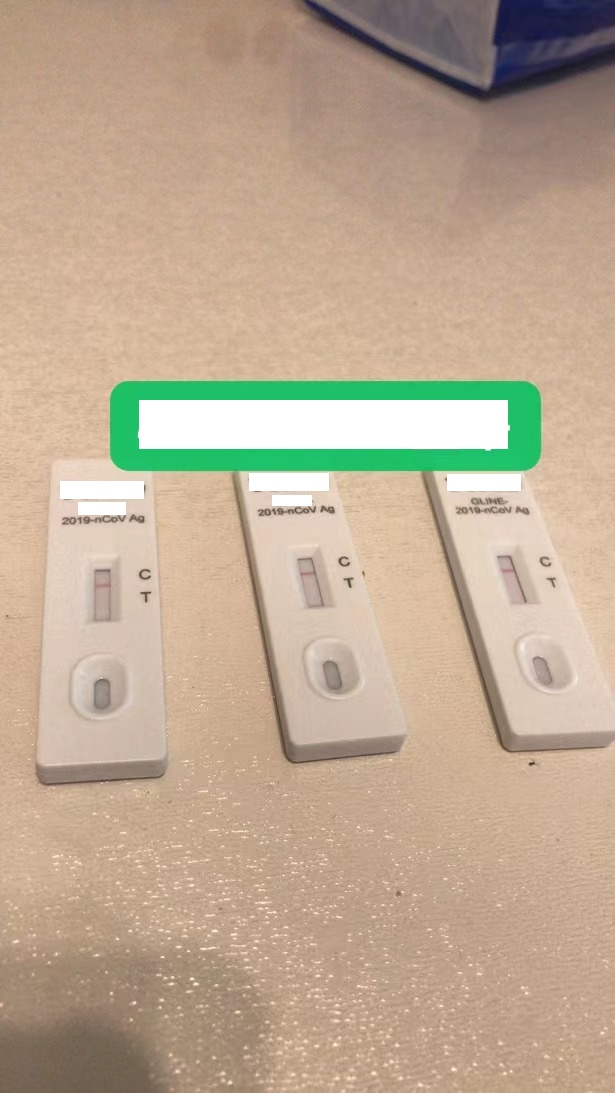negative: (291, 545, 329, 610), (493, 547, 534, 607), (85, 555, 119, 624)
